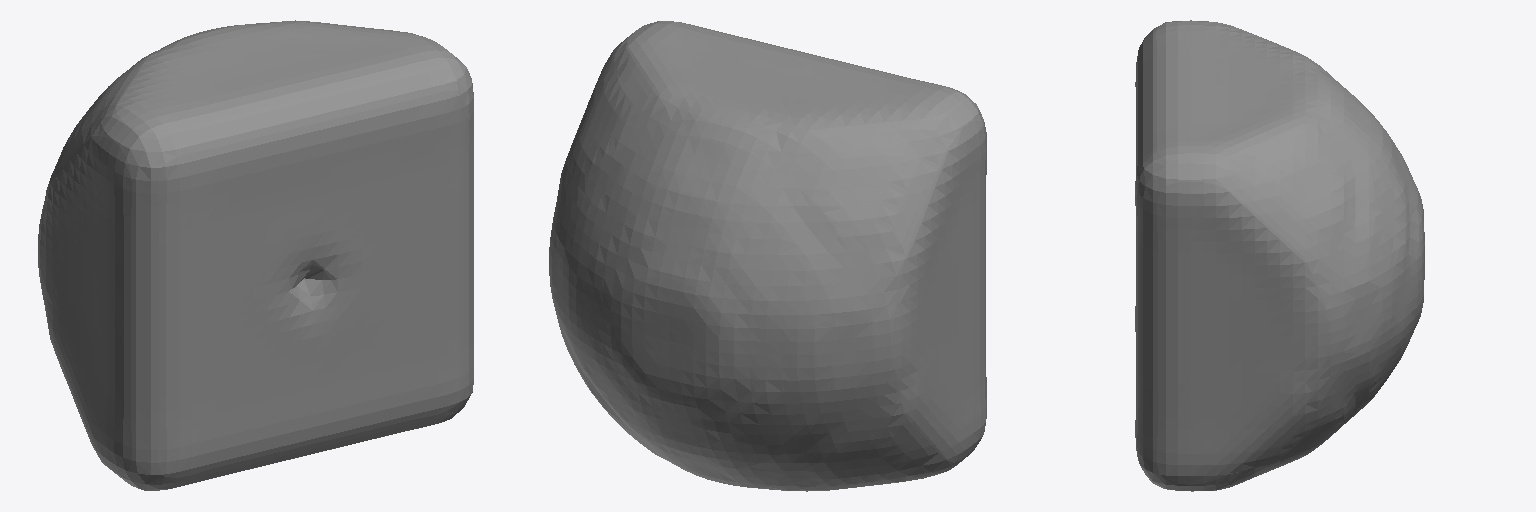
robot.urdf — cube.urdf:
<?xml version="0.0" ?> 
<robot name="cube.urdf"> 
<link name="legobrick"> 
<contact> 
<lateral_friction value="5.0"/> 
<rolling_friction value="0.0"/> 
<contact_cfm value="0.0"/> 
<contact_erp value="1.0"/> 
</contact> 
<inertial> 
<origin rpy="0 0 0" xyz="0.0 0.0 0.0"/> 
<mass value=".01"/> 
<inertia ixx="1" ixy="0" ixz="0" iyy="1" iyz="0" izz="1"/> 
</inertial> 
<visual> 
<origin rpy="1.570796 0 0" xyz="-0.025830822806796282 0.035279166003402085 -0.02581060729081595"/> 
<geometry> 
<mesh filename="N02_0.obj" scale="0.0005600129756686502 0.0005600129756686502 0.0005600129756686502"/> 
</geometry> 
<material name="yellow"> 
<color rgba="0.6 0.6 0.6 1"/> 
</material> 
</visual> 
<collision> 
<origin rpy="1.570796 0 0" xyz="-0.025830822806796282 0.035279166003402085 -0.02581060729081595"/> 
<geometry> 
<mesh filename="N02_0.obj" scale="0.0005600129756686502 0.0005600129756686502 0.0005600129756686502"/> 
</geometry> 
</collision> 
</link> 
</robot>

--- What the picture shows (computed from the rendered views, not written in the file) ---
Views: 3 orthographic renders of the robot side by side, from view 1: azimuth 30°, elevation 25°; view 2: azimuth 150°, elevation 25°; view 3: azimuth 270°, elevation 25°.
Robot: cube.urdf — 1 links, 0 joints (none); root link legobrick; default pose: all joints at 0.
Visible links, largest first — view 1: legobrick; view 2: legobrick; view 3: legobrick.
Link boxes in pixels (box(x1,y1,x2,y2)): legobrick: box(38, 20, 473, 490); legobrick: box(549, 21, 986, 491); legobrick: box(1135, 20, 1424, 491).
Size in the robot's own frame: 0.056 by 0.043 by 0.056 metres.
Meshes: 1 distinct files referenced, 1 mesh visuals loaded (1 OBJ).
